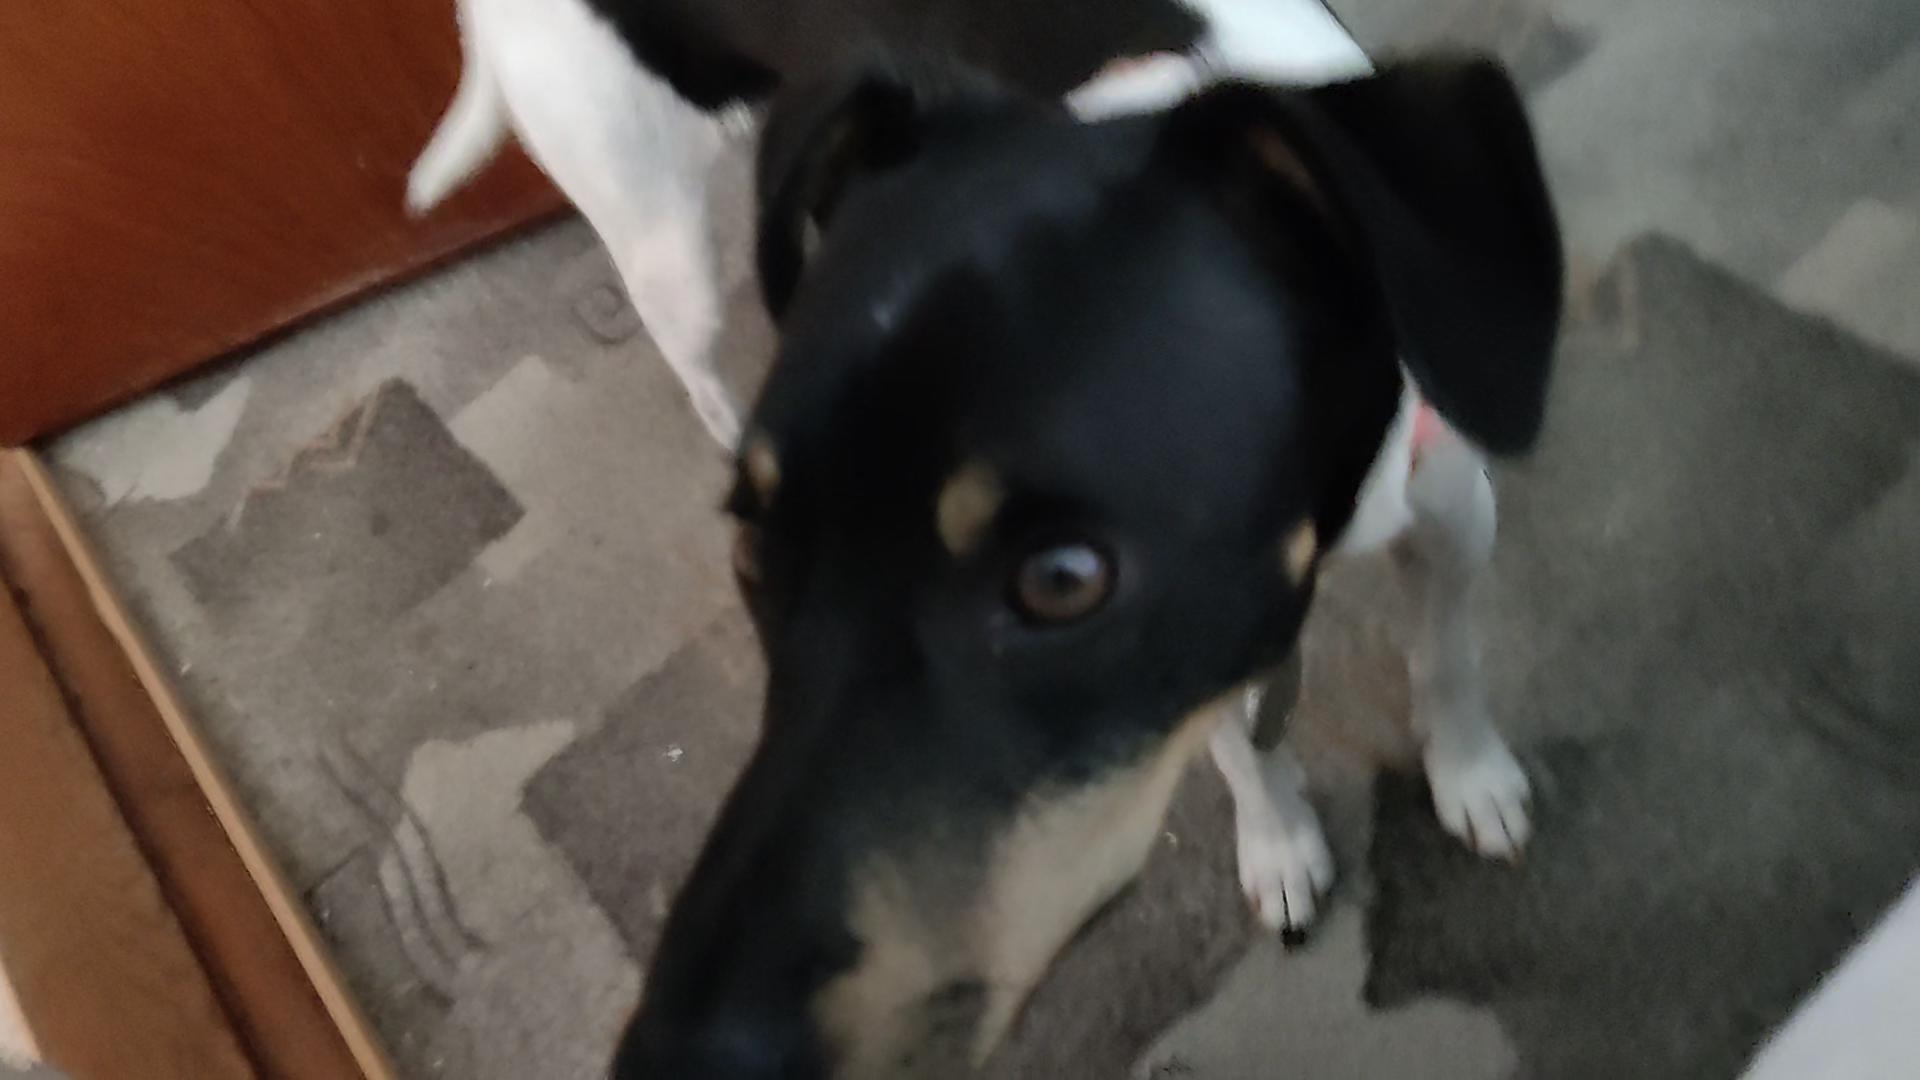Dog: (393, 0, 1578, 1079)
